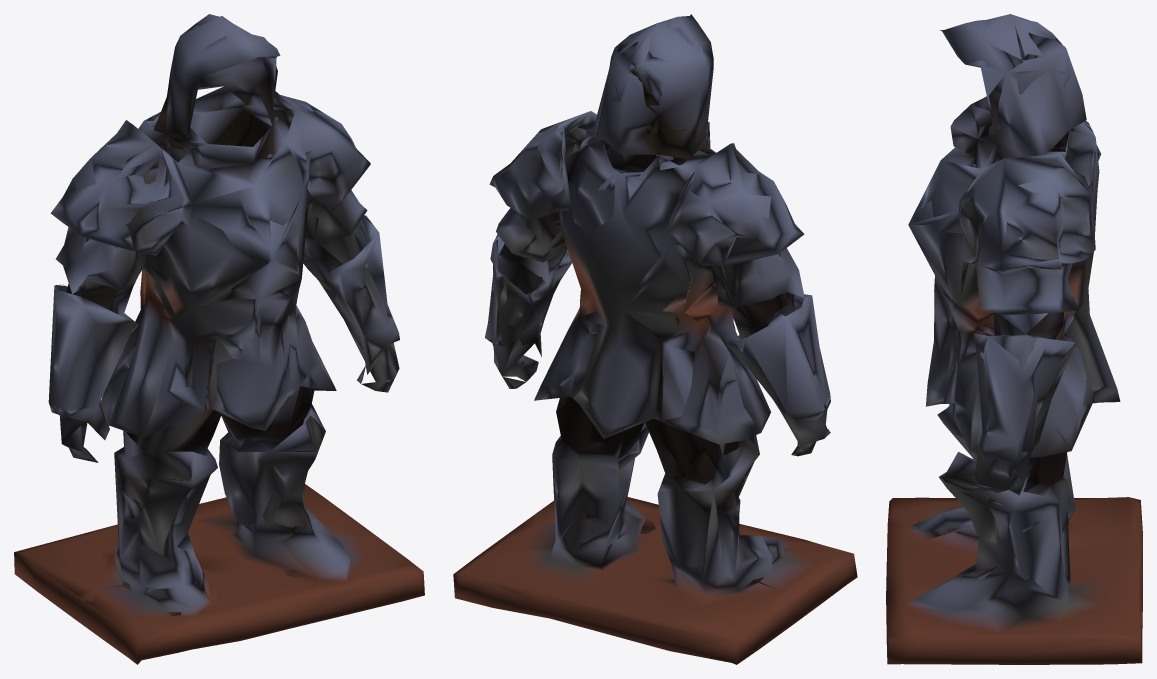
File: gen3d-suit-of-armor-lod0.glb
3 views of the same model, side by side, from view 1: azimuth 30°, elevation 25°; view 2: azimuth 150°, elevation 25°; view 3: azimuth 270°, elevation 25° (orthographic). The views are drawn at different scales.
Parts seen in each view (by area): view 1: part_0; view 2: part_0; view 3: part_0.
Boxes of the visible parts, x1,y1,x2,y2 form: part_0: [14, 14, 424, 664]; part_0: [453, 14, 857, 664]; part_0: [886, 14, 1142, 664].
Size of the model in its own units: 0.6262 by 1 by 0.4011.
